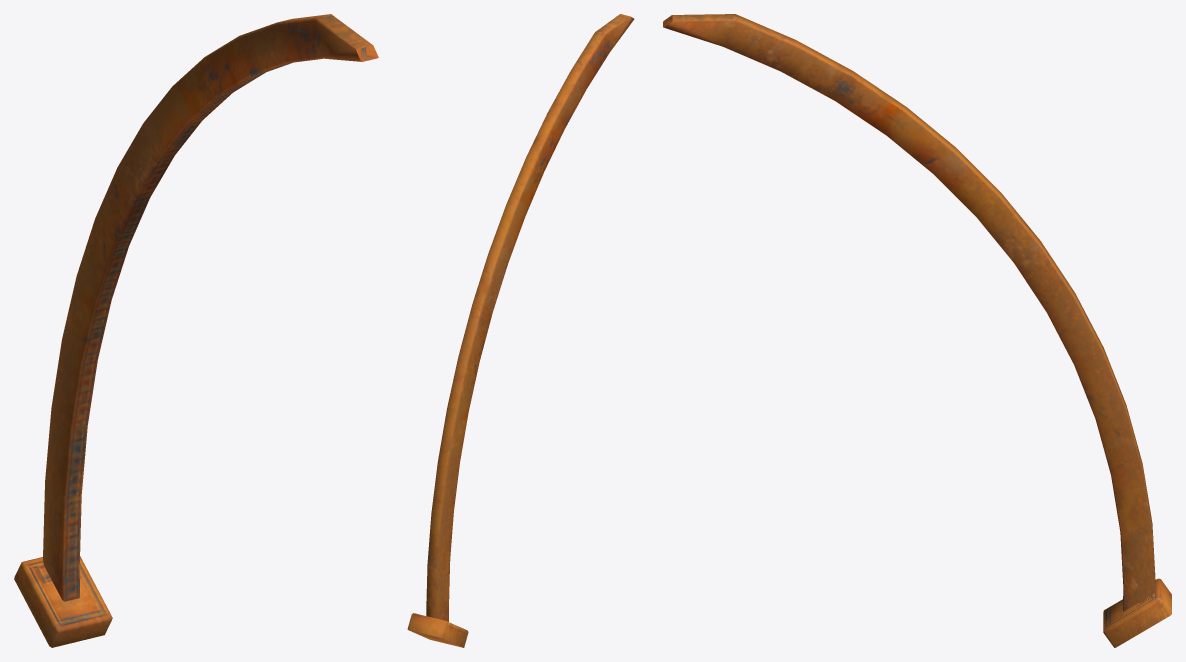
File: 05_01_adon_support.DAE
The picture shows the model from 3 angles, left to right: view 1: azimuth 30°, elevation 25°; view 2: azimuth 150°, elevation 25°; view 3: azimuth 270°, elevation 25°; orthographic projection. The views are drawn at different scales.
Visible parts, largest first — view 1: Object018; view 2: Object018; view 3: Object018.
Boxes of the visible parts, x1=… form: Object018: x1=14, y1=14, x2=378, y2=647; Object018: x1=407, y1=14, x2=634, y2=647; Object018: x1=663, y1=14, x2=1171, y2=647.
Size of the model in its own units: 0.1198 by 1.64 by 1.22.
